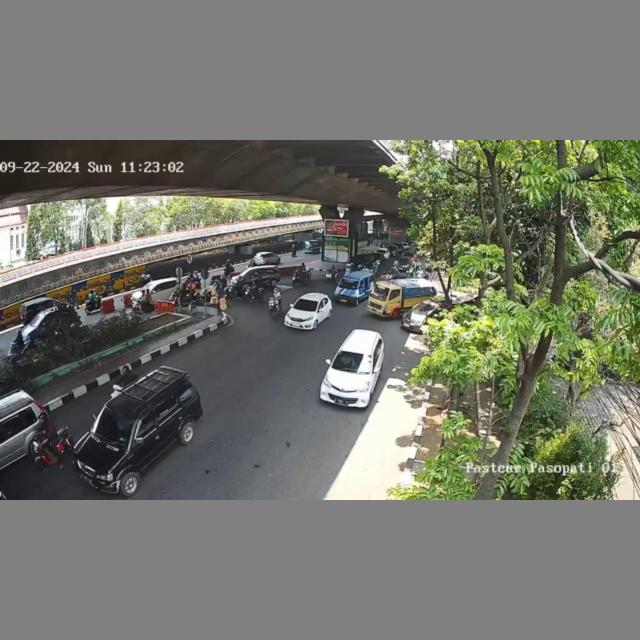windshield: (89, 409, 138, 446), (332, 347, 375, 373), (291, 297, 320, 311), (337, 277, 357, 290)
